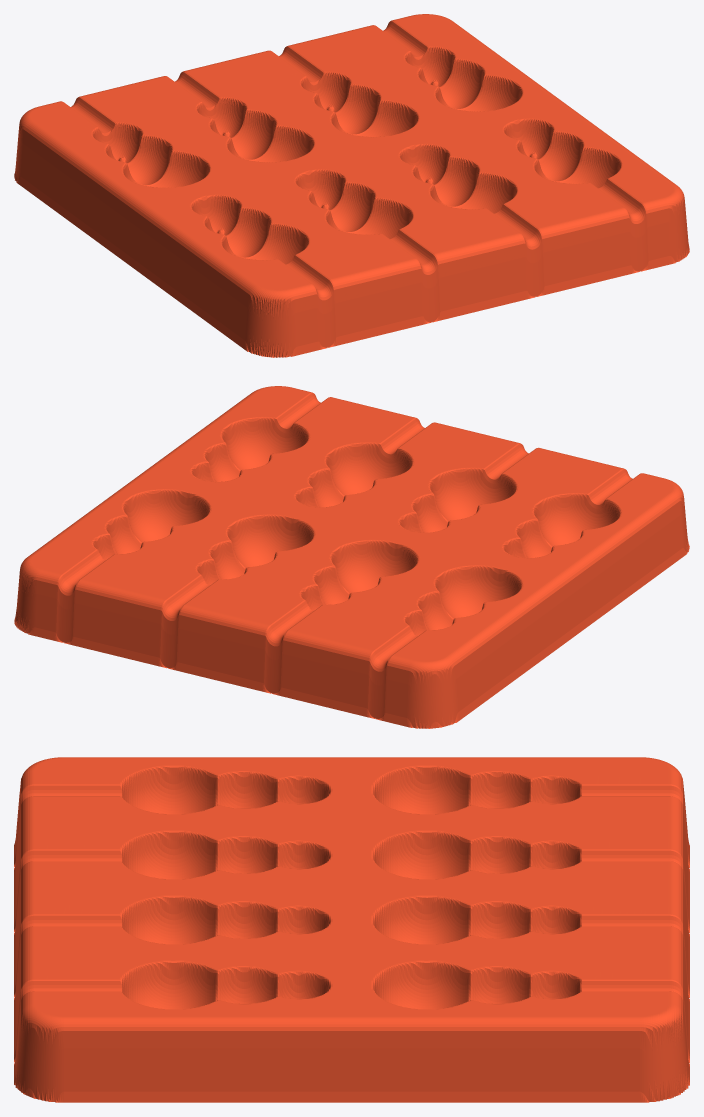
File: mold.glb
The picture shows the model from 3 angles, top to bottom: view 1: azimuth 30°, elevation 25°; view 2: azimuth 150°, elevation 25°; view 3: azimuth 270°, elevation 25°; orthographic projection. The views are drawn at different scales.
Visible parts, largest first — view 1: geometry_0; view 2: geometry_0; view 3: geometry_0.
Boxes of the visible parts, left/top/right/bottom form: geometry_0: left=14, top=14, right=689, bottom=357; geometry_0: left=14, top=386, right=689, bottom=728; geometry_0: left=14, top=757, right=689, bottom=1102.
Size of the model in its own units: 0.1178 by 0.0155 by 0.1222.
